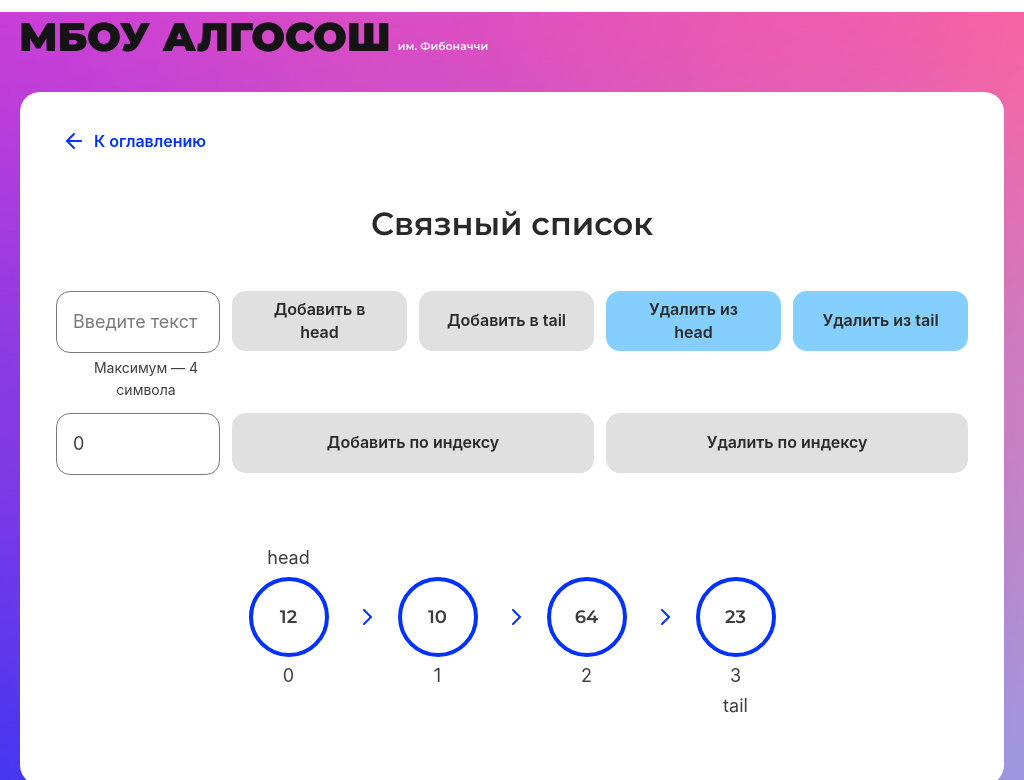
Scenario: should work algorithm list › removed item in the head
Step 1. Click the button with test id "remove" showing "Удалить из head" → click(694, 321), box [606,291,781,351]
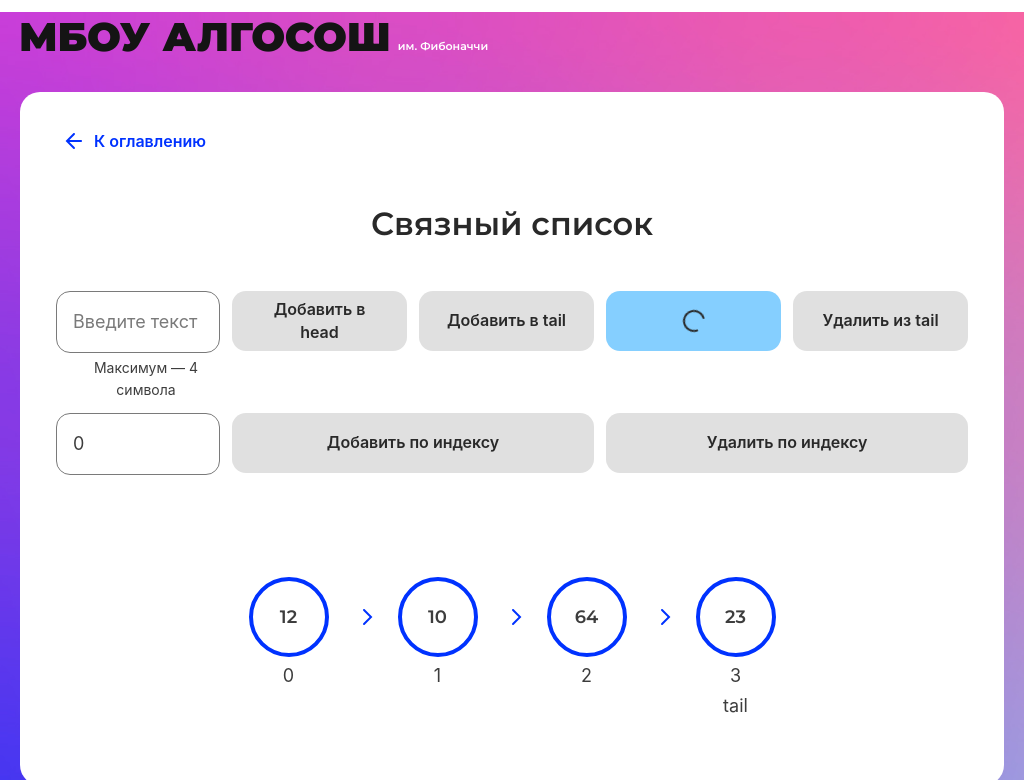
Step 2. Wait "1000"
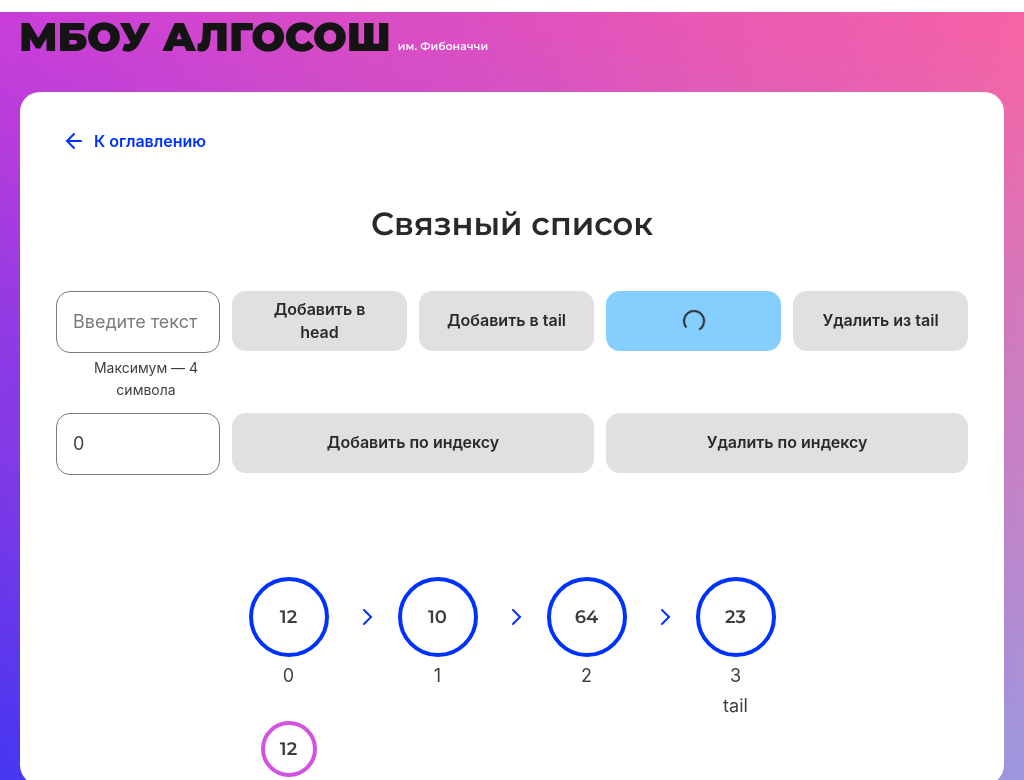
Step 3. Wait "1000"
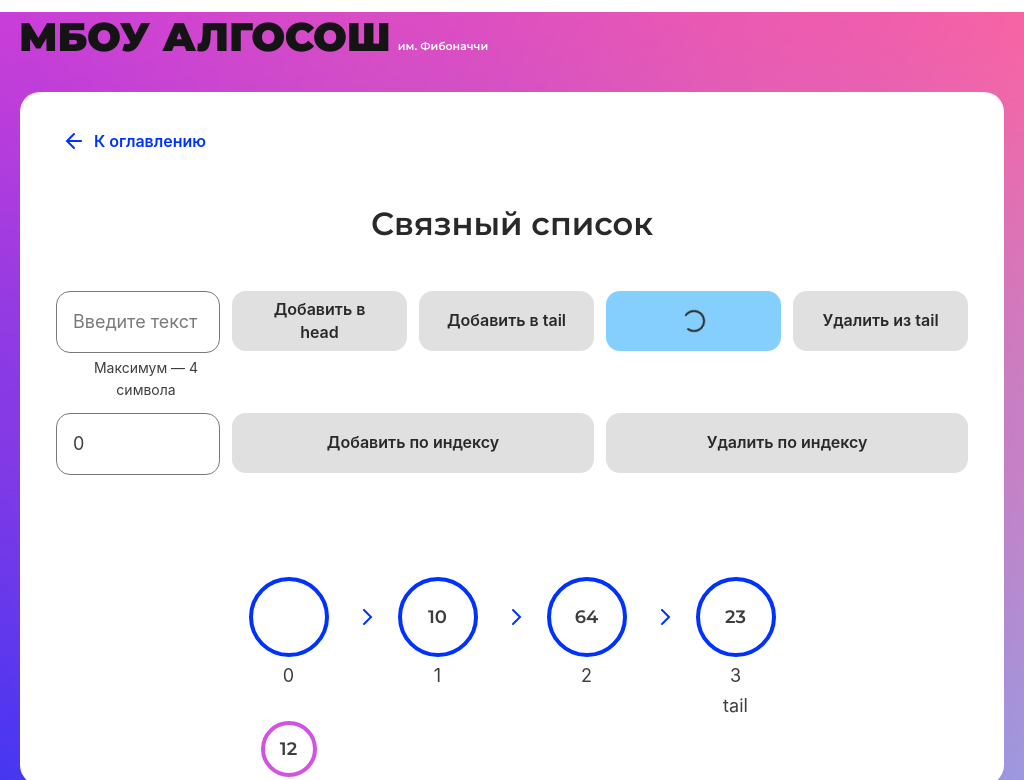
Step 4. Wait "1000"
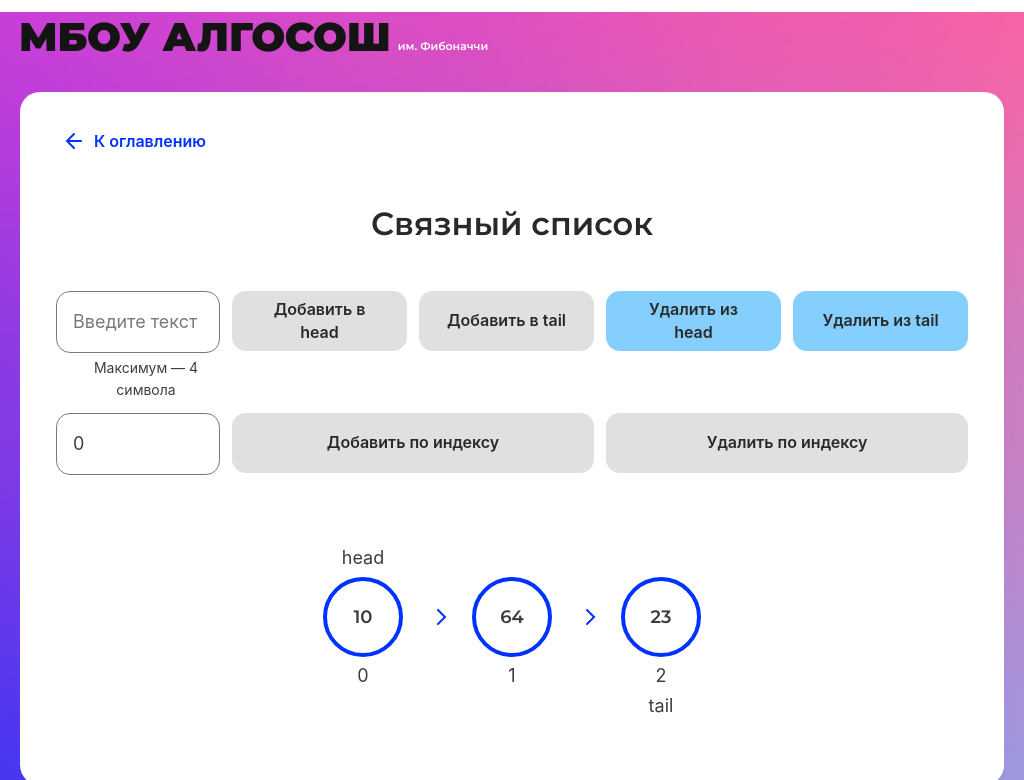
Expected: the element with test id "circle" is not empty
Now the text "head" is shown, box [342,547,384,569]
